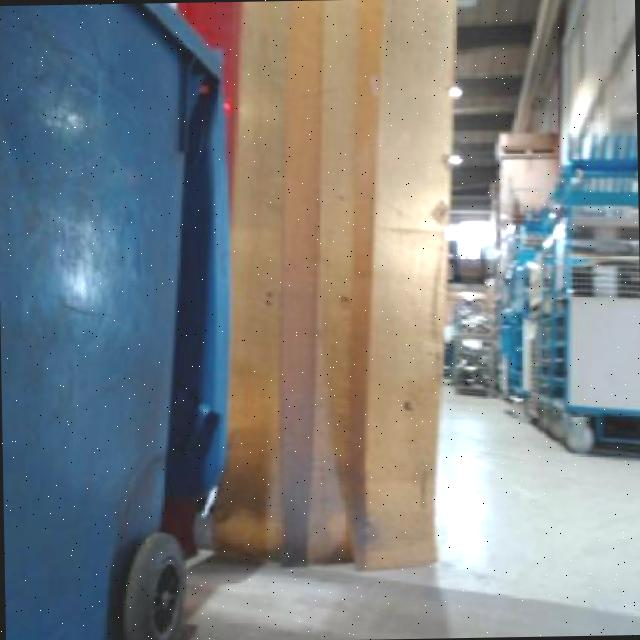pallet: (486, 131, 564, 163)
